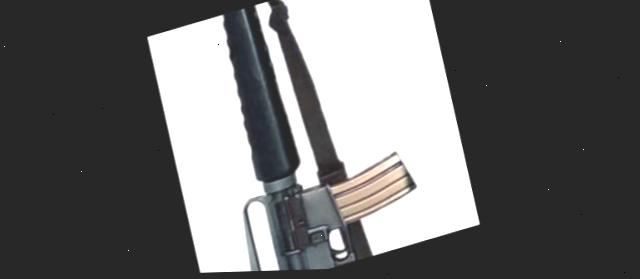rifle: (179, 0, 442, 275)
